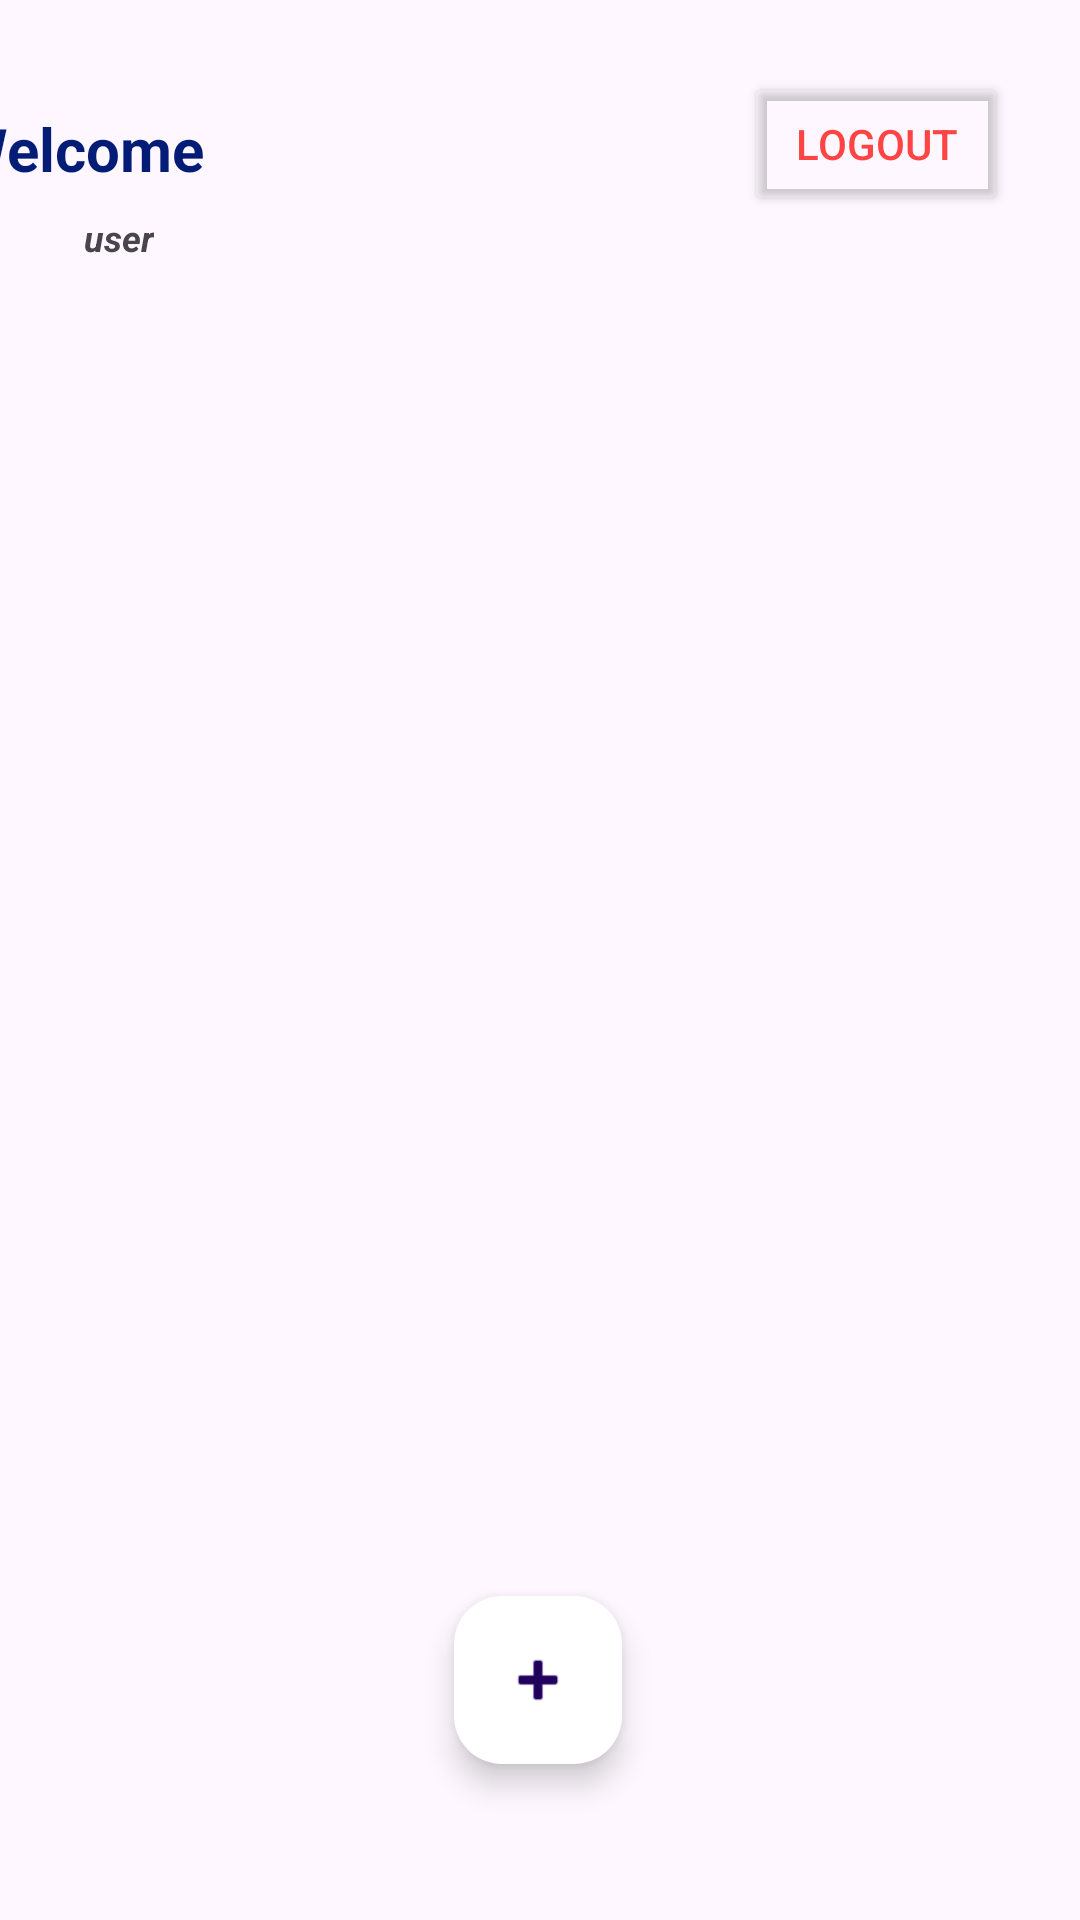

Locate icon controls on the screen. Image size 1080 x 1920, boxes as (x1, y1, x2, y2).
add: (454, 1596, 622, 1764)
